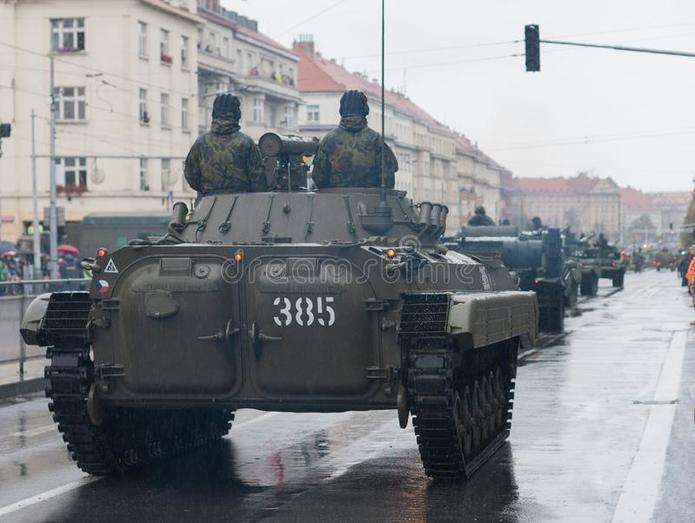bmp: (27, 184, 528, 481)
